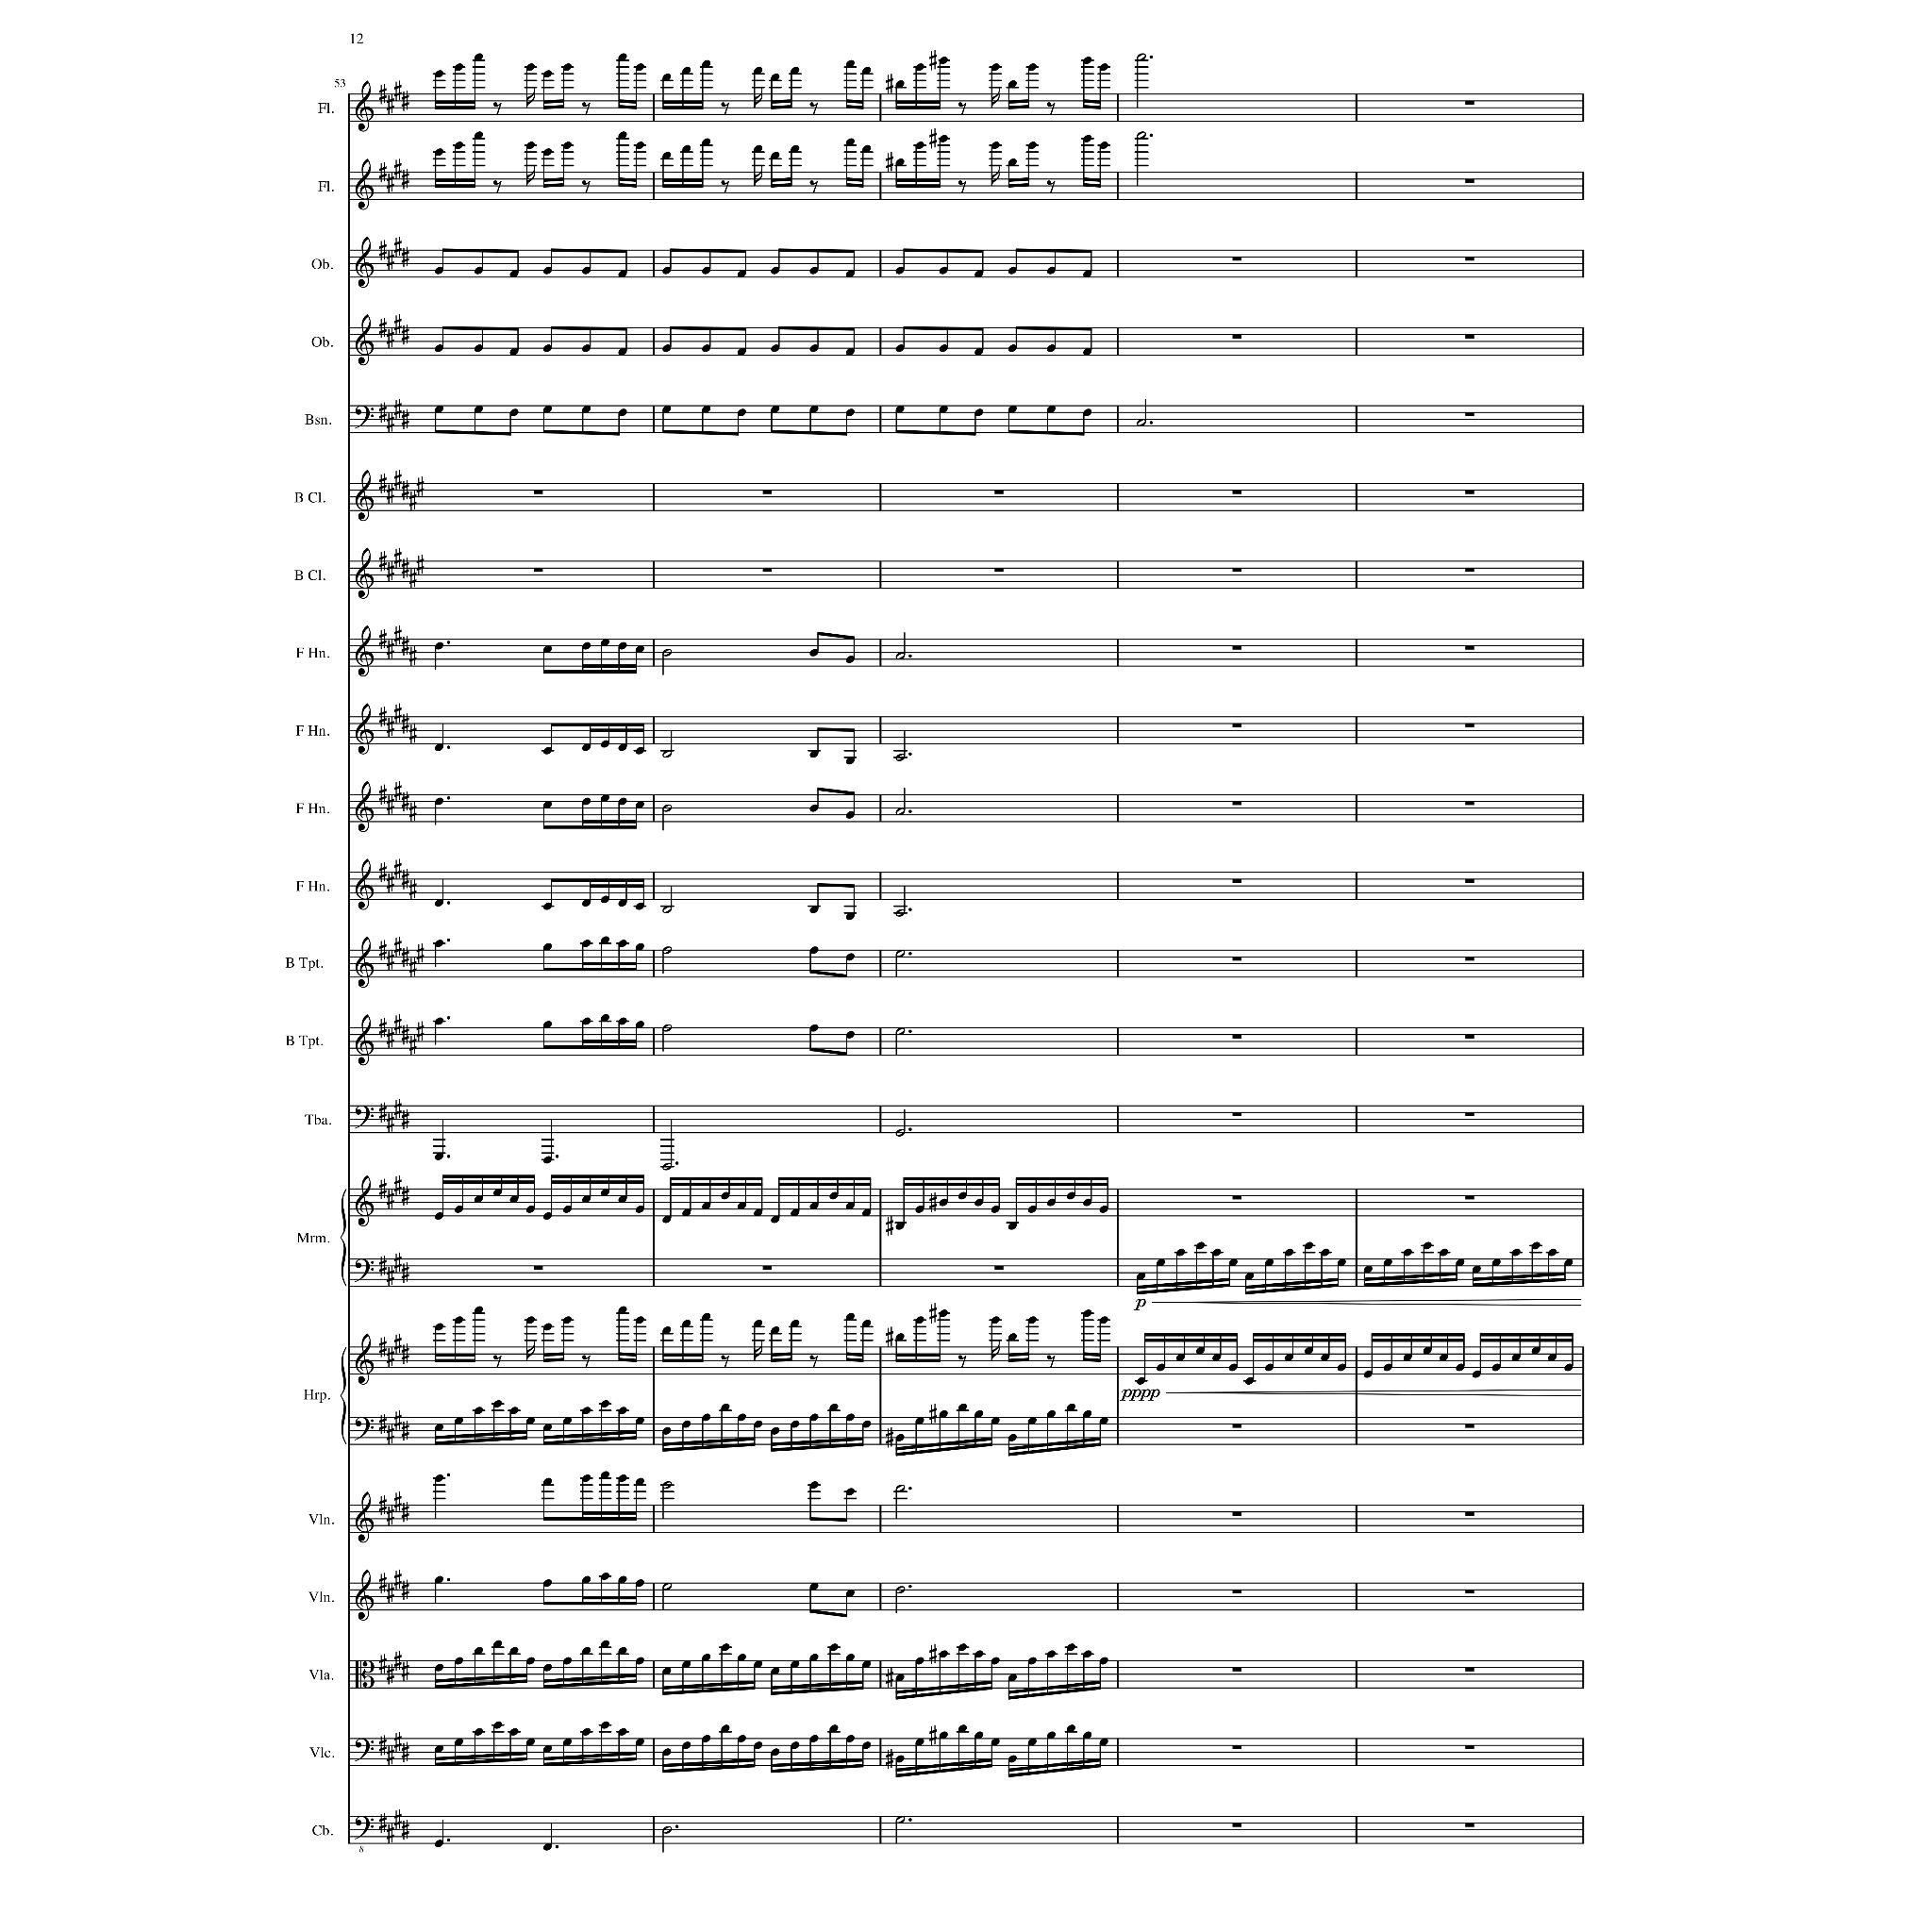brace: (340, 1189, 345, 1286), (340, 1348, 345, 1445)
fClef: (354, 1737, 373, 1762), (354, 1106, 373, 1129), (354, 1260, 373, 1283), (354, 1417, 373, 1440), (354, 1815, 373, 1838), (354, 405, 373, 428)
flag16thDown: (991, 87, 1000, 108), (991, 1339, 1000, 1361), (525, 1339, 534, 1361), (525, 87, 534, 108), (754, 87, 763, 108), (754, 1339, 763, 1361), (991, 166, 1000, 186), (525, 166, 534, 186), (754, 166, 763, 186)
gClef: (354, 780, 373, 833), (354, 625, 373, 678), (354, 936, 373, 989), (354, 157, 373, 211), (354, 313, 373, 366), (354, 469, 373, 522), (354, 1175, 373, 1226), (354, 1334, 373, 1385), (354, 1491, 373, 1543), (354, 548, 373, 600), (354, 704, 373, 755), (354, 858, 373, 909), (354, 1014, 373, 1065), (354, 1569, 373, 1621), (354, 80, 373, 131), (354, 237, 373, 288)
noteheadBlack: (1046, 1730, 1056, 1739), (1046, 405, 1056, 414), (957, 1403, 968, 1412), (1007, 80, 1017, 88), (1007, 405, 1017, 414), (1007, 1332, 1017, 1341), (1007, 1433, 1017, 1442), (1007, 1674, 1017, 1683), (1007, 1755, 1017, 1764), (973, 1730, 984, 1739), (973, 269, 984, 278), (1511, 1353, 1522, 1362), (1454, 1258, 1465, 1267), (1530, 1346, 1541, 1355), (1546, 1353, 1557, 1362), (1099, 62, 1109, 71), (1099, 1205, 1109, 1214), (1244, 1272, 1254, 1281), (1244, 1376, 1254, 1385), (1263, 1258, 1274, 1267), (1362, 1265, 1373, 1274), (1362, 1369, 1373, 1378), (1228, 1258, 1238, 1267), (1155, 1258, 1166, 1267), (1175, 1353, 1185, 1362), (508, 1647, 518, 1656), (508, 269, 518, 278), (580, 405, 591, 414), (580, 743, 591, 752), (580, 1017, 591, 1026), (580, 1474, 591, 1483), (580, 1647, 591, 1656), (433, 1744, 444, 1753), (433, 743, 444, 752), (433, 1017, 444, 1026), (433, 1474, 444, 1483), (433, 1663, 444, 1672), (433, 405, 444, 414), (433, 1838, 444, 1847), (433, 69, 444, 78), (433, 147, 444, 156), (492, 1399, 502, 1408), (492, 1640, 502, 1649), (453, 62, 464, 71), (453, 1205, 464, 1214), (736, 269, 747, 278), (736, 1201, 747, 1210), (736, 1412, 747, 1421), (736, 1734, 747, 1743), (752, 1660, 763, 1668), (752, 1741, 763, 1750), (701, 405, 711, 414), (701, 1201, 711, 1210), (701, 1313, 711, 1322), (701, 1412, 711, 1421), (701, 1734, 711, 1743), (789, 1660, 800, 1668), (789, 1741, 800, 1750), (939, 134, 948, 143), (939, 405, 948, 414), (939, 1730, 948, 1739), (1028, 1205, 1037, 1214), (1028, 62, 1037, 71), (991, 62, 1000, 71), (991, 1205, 1000, 1214), (862, 1660, 870, 1668), (862, 1741, 870, 1750), (895, 80, 904, 88), (895, 405, 904, 414), (895, 1332, 904, 1341), (895, 1433, 904, 1442), (895, 1674, 904, 1683), (895, 1755, 904, 1764), (846, 269, 855, 278), (846, 655, 855, 663), (846, 911, 855, 920), (846, 1201, 855, 1210), (846, 1313, 855, 1322), (846, 1412, 855, 1421), (846, 1589, 855, 1598), (828, 1403, 837, 1412), (846, 1734, 855, 1743), (915, 62, 924, 71), (915, 1205, 924, 1214), (1491, 1258, 1500, 1267), (1472, 1265, 1481, 1274), (1472, 1369, 1481, 1378), (1564, 1258, 1573, 1267), (1438, 1353, 1447, 1362), (1403, 1353, 1412, 1362), (1422, 1346, 1431, 1355), (1384, 1258, 1392, 1267), (1136, 1272, 1145, 1281), (1136, 1376, 1145, 1385), (1083, 134, 1092, 143), (1083, 269, 1092, 278), (1067, 1403, 1076, 1412), (1083, 1730, 1092, 1739), (1284, 1353, 1293, 1362), (1304, 1346, 1313, 1355), (1320, 1353, 1329, 1362), (1338, 1258, 1346, 1267), (1212, 1353, 1221, 1362), (1196, 1346, 1205, 1355), (543, 69, 552, 78), (543, 147, 552, 156), (543, 405, 552, 414), (543, 747, 552, 755), (543, 902, 552, 911), (543, 1477, 552, 1486), (543, 1663, 552, 1672), (543, 1744, 552, 1753), (525, 62, 534, 71), (525, 1205, 534, 1214), (600, 1640, 609, 1649), (600, 639, 609, 648), (600, 895, 609, 904), (600, 936, 609, 945), (600, 1399, 609, 1408), (563, 62, 571, 71), (563, 1205, 571, 1214), (474, 131, 483, 140), (474, 405, 483, 414), (474, 1306, 483, 1315), (474, 1647, 483, 1656), (720, 1403, 729, 1412), (681, 1660, 690, 1668), (681, 1741, 690, 1750), (809, 1412, 817, 1421), (809, 1582, 817, 1591), (809, 1734, 817, 1743), (809, 405, 817, 414), (809, 1024, 817, 1033), (809, 1201, 817, 1210), (770, 405, 778, 414), (770, 1215, 778, 1224), (635, 1205, 644, 1214), (635, 1477, 644, 1486), (635, 62, 644, 71), (635, 747, 644, 755), (635, 902, 644, 911), (617, 743, 626, 752), (617, 1017, 626, 1026), (617, 1306, 626, 1315), (617, 1474, 626, 1483), (617, 1647, 626, 1656), (617, 131, 626, 140), (617, 269, 626, 278), (662, 1215, 671, 1224), (662, 405, 671, 414), (1046, 1651, 1056, 1658), (1046, 1200, 1056, 1207), (1046, 345, 1056, 352), (1046, 267, 1056, 274), (1046, 1410, 1056, 1417), (957, 1192, 968, 1200), (957, 1644, 968, 1651), (957, 1725, 968, 1732), (1007, 159, 1017, 166), (1007, 267, 1017, 274), (1007, 345, 1017, 352), (1007, 1223, 1017, 1230), (973, 1410, 984, 1417), (973, 1651, 984, 1658), (973, 1200, 984, 1207), (973, 349, 984, 356), (973, 409, 984, 416), (1511, 1249, 1522, 1256), (1454, 1364, 1465, 1371), (1530, 1242, 1541, 1249), (1546, 1249, 1557, 1256), (1099, 142, 1109, 149), (1099, 1316, 1109, 1323), (1099, 1417, 1109, 1424), (1099, 1658, 1109, 1665), (1099, 1739, 1109, 1746), (1263, 1364, 1274, 1371), (1228, 1364, 1238, 1371), (1175, 1249, 1185, 1256), (1155, 1364, 1166, 1371), (508, 409, 518, 416), (508, 1196, 518, 1203), (508, 1407, 518, 1414), (508, 1729, 518, 1736), (508, 349, 518, 356), (580, 899, 591, 906), (580, 267, 591, 274), (580, 345, 591, 352), (580, 642, 591, 649), (580, 798, 591, 805), (580, 939, 591, 947), (580, 1196, 591, 1203), (580, 1407, 591, 1414), (580, 1576, 591, 1583), (580, 1729, 591, 1736), (433, 642, 444, 649), (433, 798, 444, 805), (433, 899, 444, 906), (433, 939, 444, 947), (433, 1154, 444, 1161), (433, 1212, 444, 1219), (433, 1323, 444, 1330), (433, 1424, 444, 1431), (433, 1576, 444, 1583), (433, 267, 444, 274), (433, 345, 444, 352), (492, 1189, 502, 1196), (492, 1721, 502, 1729), (453, 142, 464, 149), (453, 1316, 464, 1323), (453, 1417, 464, 1424), (453, 1658, 464, 1665), (453, 1739, 464, 1746), (736, 349, 747, 356), (736, 409, 747, 416), (736, 1654, 747, 1661), (752, 67, 763, 74), (752, 145, 763, 152), (752, 1208, 763, 1215), (752, 1320, 763, 1327), (752, 1421, 763, 1428), (701, 60, 711, 67), (701, 138, 711, 145), (701, 267, 711, 274), (701, 345, 711, 352), (701, 1654, 711, 1661), (789, 145, 800, 152), (789, 1208, 800, 1215), (789, 1320, 800, 1327), (789, 1421, 800, 1428), (789, 67, 800, 74), (939, 57, 948, 64), (939, 267, 948, 274), (939, 345, 948, 352), (939, 1200, 948, 1207), (939, 1309, 948, 1316), (939, 1410, 948, 1417), (939, 1651, 948, 1658), (1028, 1739, 1037, 1746), (1028, 1658, 1037, 1665), (1028, 1417, 1037, 1424), (1028, 1316, 1037, 1323), (1028, 142, 1037, 149), (991, 142, 1000, 149), (991, 1316, 1000, 1323), (991, 1417, 1000, 1424), (991, 1658, 1000, 1665), (991, 1739, 1000, 1746), (862, 67, 870, 74), (862, 145, 870, 152), (862, 1208, 870, 1215), (862, 1320, 870, 1327), (862, 1421, 870, 1428), (895, 159, 904, 166), (895, 267, 904, 274), (895, 345, 904, 352), (895, 1223, 904, 1230), (846, 409, 855, 416), (846, 60, 855, 67), (846, 138, 855, 145), (846, 349, 855, 356), (846, 757, 855, 764), (846, 812, 855, 819), (846, 954, 855, 961), (846, 1031, 855, 1039), (846, 1488, 855, 1495), (846, 1654, 855, 1661), (828, 1644, 837, 1651), (828, 1192, 837, 1200), (828, 1725, 837, 1732), (915, 142, 924, 149), (915, 1316, 924, 1323), (915, 1417, 924, 1424), (915, 1658, 924, 1665), (915, 1739, 924, 1746), (1491, 1364, 1500, 1371), (1564, 1364, 1573, 1371), (1422, 1242, 1431, 1249), (1403, 1249, 1412, 1256), (1438, 1249, 1447, 1256), (1384, 1364, 1392, 1371), (1067, 1725, 1076, 1732), (1083, 57, 1092, 64), (1083, 349, 1092, 356), (1083, 409, 1092, 416), (1083, 1200, 1092, 1207), (1067, 1192, 1076, 1200), (1067, 1644, 1076, 1651), (1083, 1309, 1092, 1316), (1083, 1410, 1092, 1417), (1083, 1651, 1092, 1658), (1284, 1249, 1293, 1256), (1304, 1242, 1313, 1249), (1320, 1249, 1329, 1256), (1338, 1364, 1346, 1371), (1212, 1249, 1221, 1256), (1196, 1242, 1205, 1249), (543, 1157, 552, 1164), (543, 267, 552, 274), (543, 345, 552, 352), (543, 646, 552, 653), (543, 801, 552, 809), (543, 943, 552, 950), (543, 1021, 552, 1028), (543, 1212, 552, 1219), (543, 1323, 552, 1330), (543, 1424, 552, 1431), (543, 1580, 552, 1587), (543, 1844, 552, 1851), (525, 142, 534, 149), (525, 1316, 534, 1323), (525, 1417, 534, 1424), (525, 1658, 534, 1665), (525, 1739, 534, 1746), (600, 741, 609, 748), (600, 794, 609, 801), (600, 1014, 609, 1021), (600, 1189, 609, 1196), (600, 1472, 609, 1479), (600, 1573, 609, 1580), (600, 1721, 609, 1729), (563, 142, 571, 149), (563, 1316, 571, 1323), (563, 1417, 571, 1424), (563, 1658, 571, 1665), (563, 1739, 571, 1746), (474, 1407, 483, 1414), (474, 53, 483, 60), (474, 267, 483, 274), (474, 345, 483, 352), (474, 1196, 483, 1203), (474, 1729, 483, 1736), (720, 1192, 729, 1200), (720, 1644, 729, 1651), (720, 1725, 729, 1732), (681, 67, 690, 74), (681, 1208, 690, 1215), (681, 1320, 690, 1327), (681, 1421, 690, 1428), (809, 1481, 817, 1488), (809, 1654, 817, 1661), (809, 267, 817, 274), (809, 345, 817, 352), (809, 649, 817, 656), (809, 750, 817, 757), (809, 805, 817, 812), (809, 906, 817, 913), (809, 947, 817, 954), (770, 1428, 778, 1435), (770, 1667, 778, 1674), (770, 1748, 778, 1755), (770, 1327, 778, 1334), (770, 74, 778, 81), (770, 152, 778, 159), (770, 267, 778, 274), (770, 345, 778, 352), (681, 145, 690, 152), (635, 1316, 644, 1323), (635, 1417, 644, 1424), (635, 1580, 644, 1587), (635, 1658, 644, 1665), (635, 1739, 644, 1746), (635, 1021, 644, 1028), (635, 142, 644, 149), (635, 646, 644, 653), (635, 801, 644, 809), (635, 943, 644, 950), (617, 798, 626, 805), (617, 899, 626, 906), (617, 939, 626, 947), (617, 1196, 626, 1203), (617, 1407, 626, 1414), (617, 1576, 626, 1583), (617, 1729, 626, 1736), (617, 642, 626, 649), (617, 53, 626, 60), (617, 349, 626, 356), (617, 409, 626, 416), (662, 1748, 671, 1755), (662, 1667, 671, 1674), (662, 1428, 671, 1435), (662, 1327, 671, 1334), (662, 345, 671, 352), (662, 267, 671, 274), (662, 152, 671, 159), (662, 74, 671, 81)
noteheadHalf: (662, 1162, 672, 1171), (662, 1826, 672, 1835), (662, 1024, 672, 1033), (895, 651, 904, 660), (895, 807, 904, 816), (895, 1129, 904, 1138), (895, 1484, 904, 1493), (895, 1585, 904, 1594), (895, 1815, 904, 1824), (1136, 131, 1145, 140), (662, 1583, 672, 1591), (662, 1481, 672, 1488), (662, 649, 672, 656), (662, 947, 672, 954), (662, 906, 672, 913), (662, 805, 672, 812), (662, 750, 672, 757), (895, 1028, 904, 1035), (895, 754, 904, 761), (895, 909, 904, 916), (895, 950, 904, 957), (1136, 53, 1145, 60), (1136, 419, 1145, 426)
rest8th: (957, 103, 966, 115), (957, 180, 966, 193), (957, 1355, 966, 1368), (582, 103, 591, 115), (582, 180, 591, 193), (582, 1355, 591, 1368), (720, 103, 729, 115), (720, 180, 729, 193), (720, 1355, 729, 1368), (809, 1355, 817, 1368), (809, 103, 817, 115), (809, 180, 817, 193), (1047, 180, 1054, 193), (1047, 103, 1054, 115), (1047, 1355, 1054, 1368), (494, 103, 501, 115), (494, 180, 501, 193), (494, 1355, 501, 1368)
restWhole: (993, 490, 1003, 495), (1231, 490, 1242, 495), (1231, 334, 1242, 340), (1231, 1111, 1242, 1116), (1231, 1667, 1242, 1672), (1231, 1589, 1242, 1594), (1231, 1511, 1242, 1516), (1231, 1424, 1242, 1430), (1231, 1194, 1242, 1200), (1231, 955, 1242, 961), (1231, 801, 1242, 807), (1231, 646, 1242, 651), (1231, 1822, 1242, 1828), (1231, 1744, 1242, 1750), (533, 490, 543, 495), (763, 490, 771, 495), (1465, 1822, 1474, 1828), (1465, 1744, 1474, 1750), (1465, 179, 1474, 184), (1465, 334, 1474, 340), (1465, 490, 1474, 495), (1465, 646, 1474, 651), (1465, 801, 1474, 807), (1465, 955, 1474, 961), (1465, 1111, 1474, 1116), (1465, 1194, 1474, 1200), (1465, 1424, 1474, 1430), (1465, 1511, 1474, 1516), (1465, 1589, 1474, 1594), (1465, 1667, 1474, 1672), (993, 568, 1003, 571), (993, 1267, 1003, 1270), (1231, 568, 1242, 571), (1231, 257, 1242, 260), (1231, 1035, 1242, 1039), (1231, 879, 1242, 883), (1231, 724, 1242, 727), (533, 568, 543, 571), (533, 1267, 543, 1270), (763, 1267, 771, 1270), (763, 568, 771, 571), (1465, 568, 1474, 571), (1465, 101, 1474, 104), (1465, 257, 1474, 260), (1465, 412, 1474, 416), (1465, 724, 1474, 727), (1465, 879, 1474, 883), (1465, 1035, 1474, 1039)
